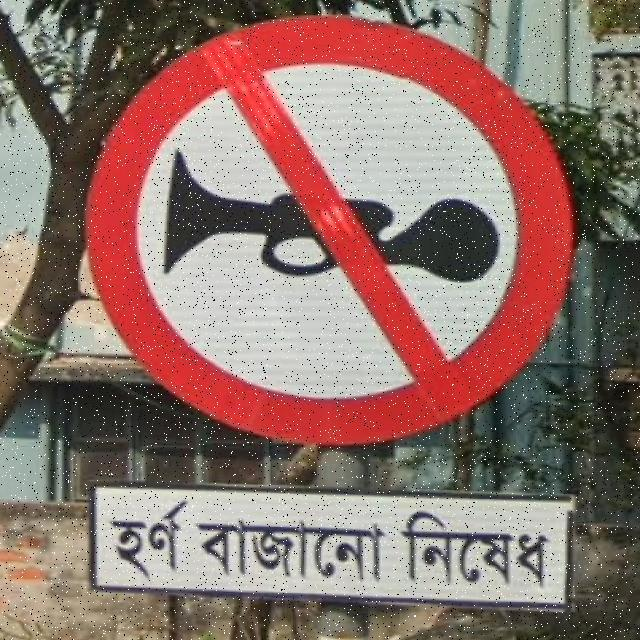Horn-blowing-is-prohibited: (75, 11, 586, 616)
